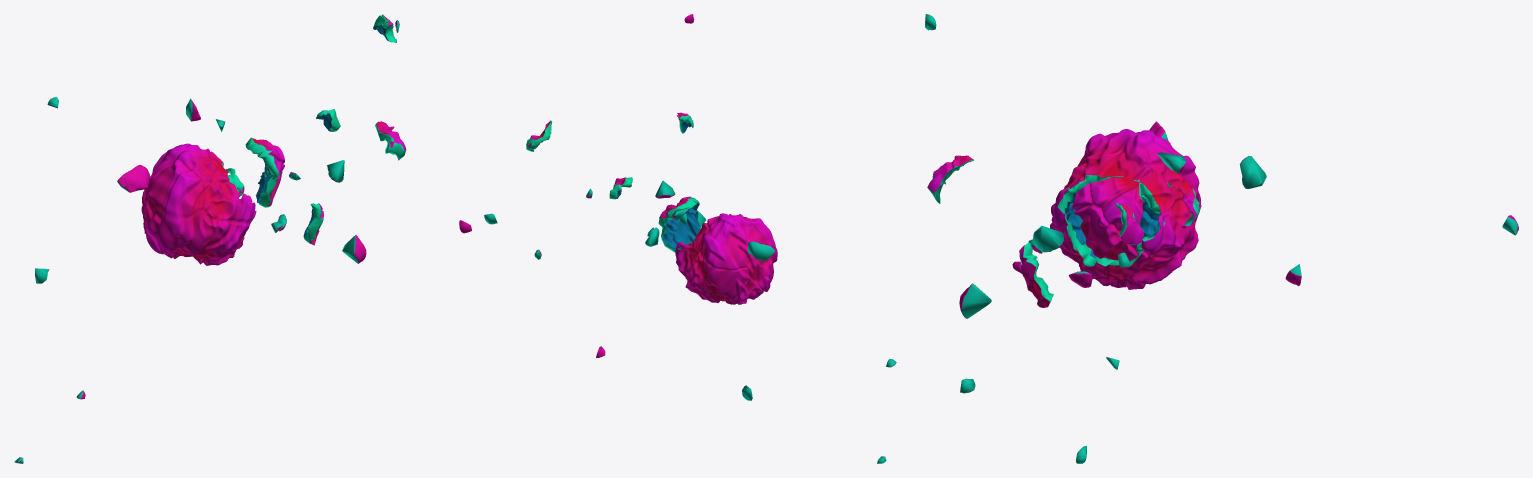
Rendered from planet.glb.
3 views of the same model, side by side, from view 1: azimuth 30°, elevation 25°; view 2: azimuth 150°, elevation 25°; view 3: azimuth 270°, elevation 25° (orthographic). The views are drawn at different scales.
Visible parts, largest first — view 1: body, slab_00, slab_03, chunk_07, slab_01; view 2: body, slab_00, chunk_07; view 3: body, slab_00, slab_01, slab_04, slab_03, slab_02, chunk_05, chunk_17, chunk_09.
Part boxes in pixels (x1=…): body: x1=141, y1=143, x2=256, y2=265; slab_00: x1=245, y1=137, x2=284, y2=207; slab_03: x1=375, y1=121, x2=406, y2=160; chunk_07: x1=117, y1=165, x2=150, y2=192; slab_01: x1=303, y1=203, x2=323, y2=245; body: x1=675, y1=213, x2=777, y2=304; slab_00: x1=658, y1=196, x2=700, y2=252; chunk_07: x1=747, y1=241, x2=774, y2=260; body: x1=1050, y1=129, x2=1200, y2=289; slab_00: x1=1072, y1=175, x2=1143, y2=261; slab_01: x1=1019, y1=242, x2=1053, y2=307; slab_04: x1=1161, y1=167, x2=1201, y2=228; slab_03: x1=927, y1=155, x2=973, y2=203; slab_02: x1=1115, y1=202, x2=1143, y2=244; chunk_05: x1=959, y1=283, x2=991, y2=318; chunk_17: x1=1032, y1=225, x2=1063, y2=252; chunk_09: x1=1239, y1=156, x2=1266, y2=188.
Bounding box in the file's own units: 40.87 × 37.4 × 36.98.
